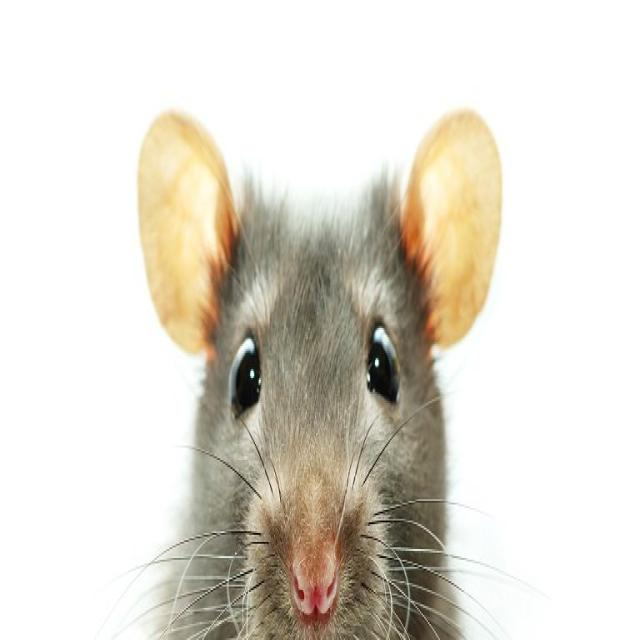Mouse: (136, 106, 503, 640)
